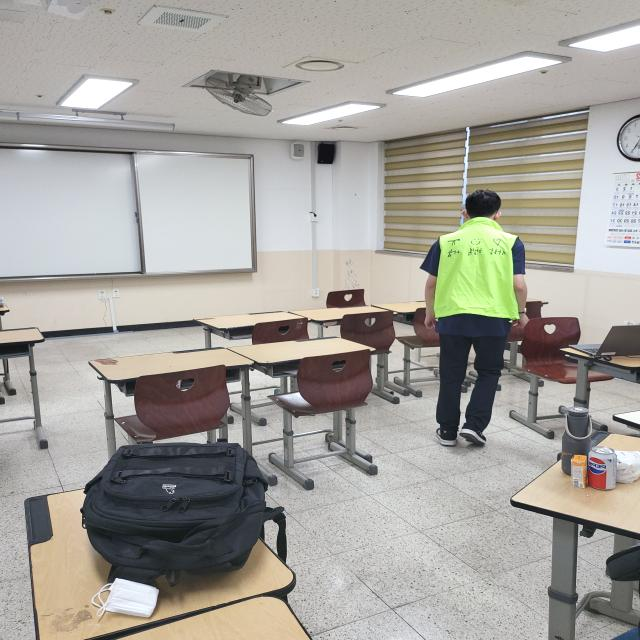weston_spy: (425, 212, 523, 324)
